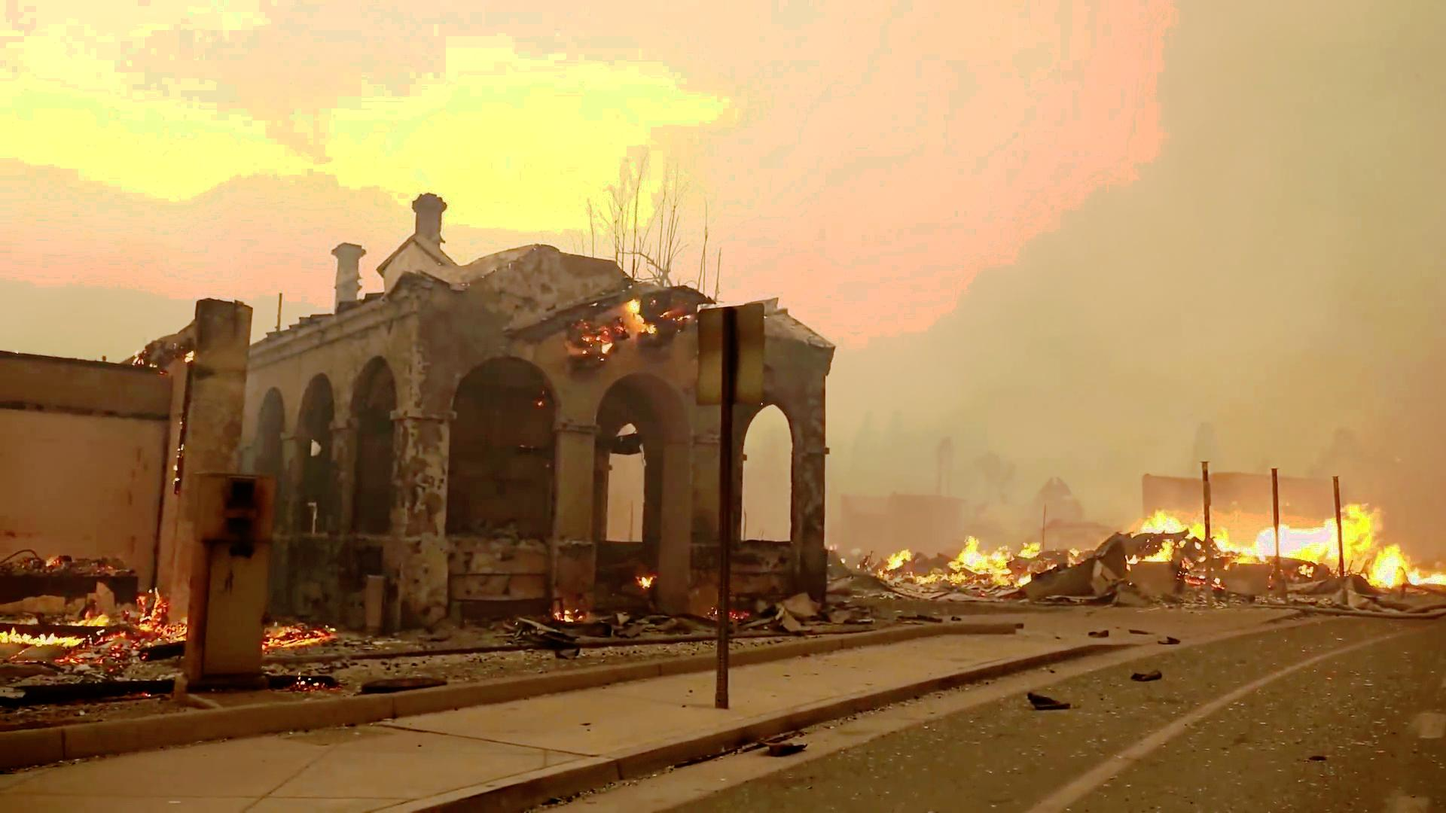fire: (1241, 475, 1398, 586)
